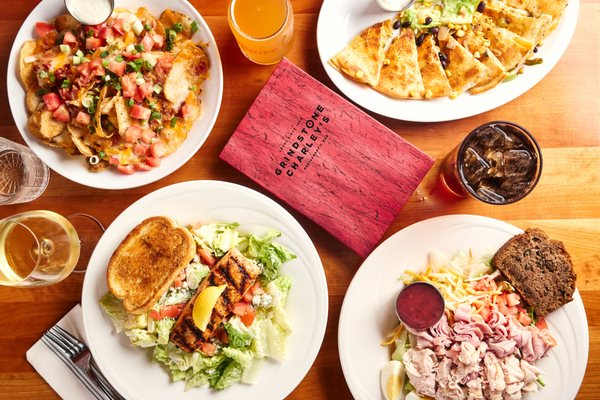sushi: (92, 179, 330, 395), (5, 0, 224, 182), (0, 209, 81, 285)
